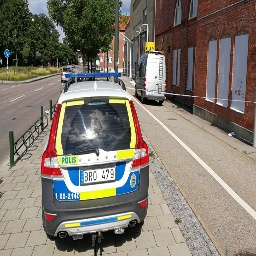sv_licence_plate: (80, 168, 116, 183)
